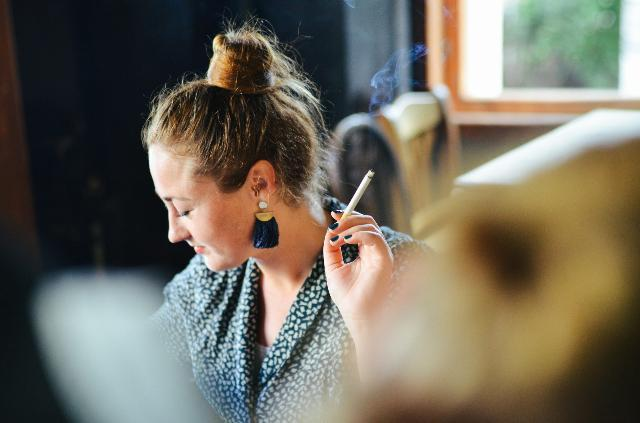Smoking: (334, 170, 376, 229)
